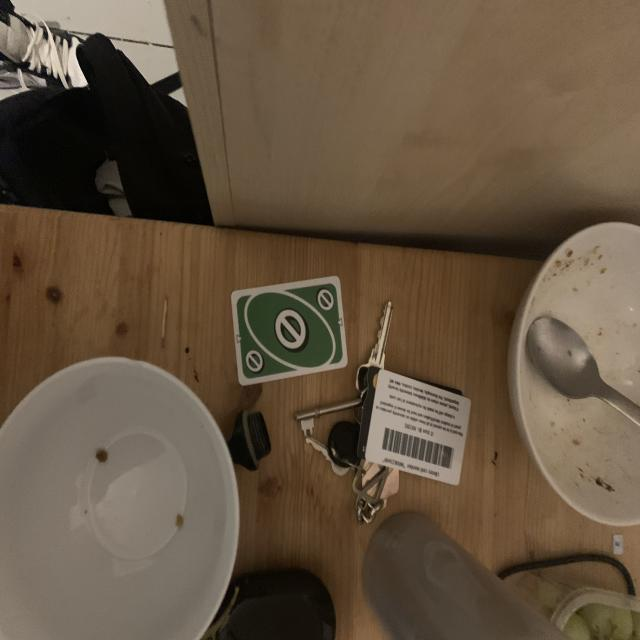lgreenskip-20: (313, 285, 338, 314)
